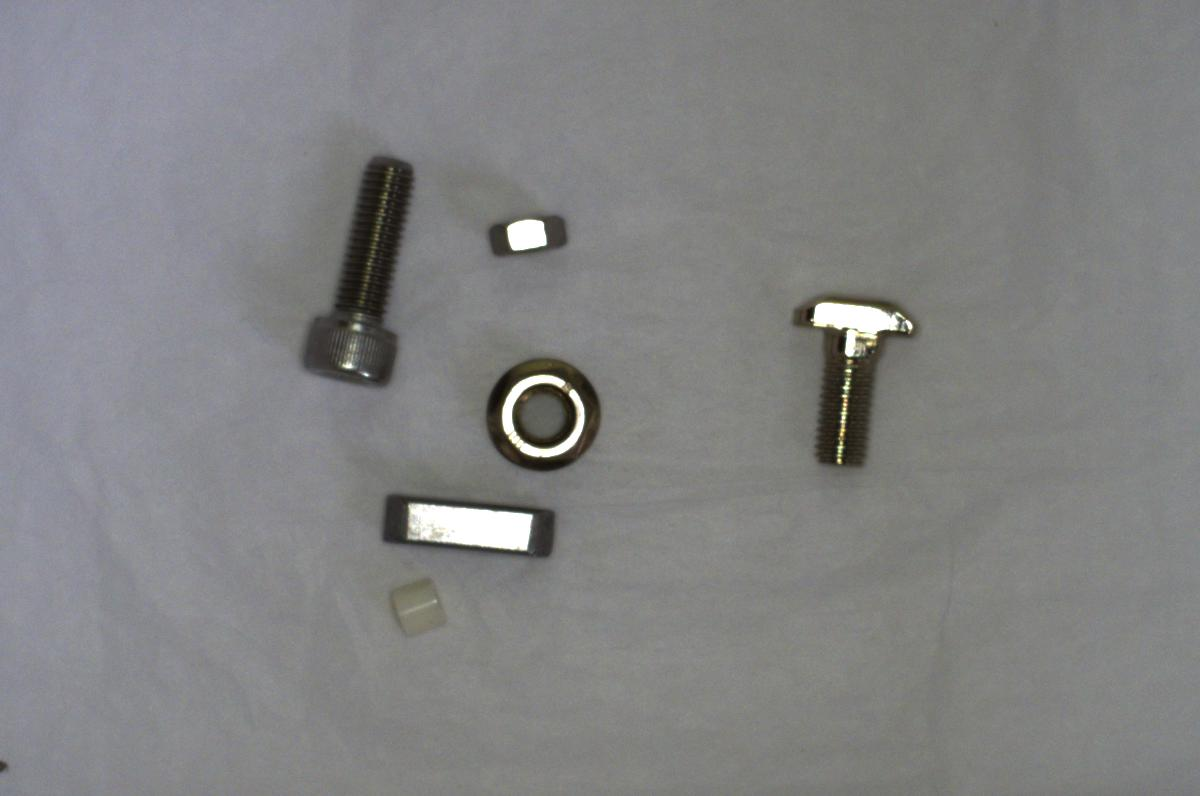Flange nut: (475, 353, 606, 469)
Hexagon nut: (478, 198, 580, 268)
Hexagon screw: (278, 149, 420, 402)
Keybar: (373, 489, 559, 558)
Plastic cushion pillar: (382, 568, 455, 646)
T-shaped screw: (778, 293, 921, 472)
